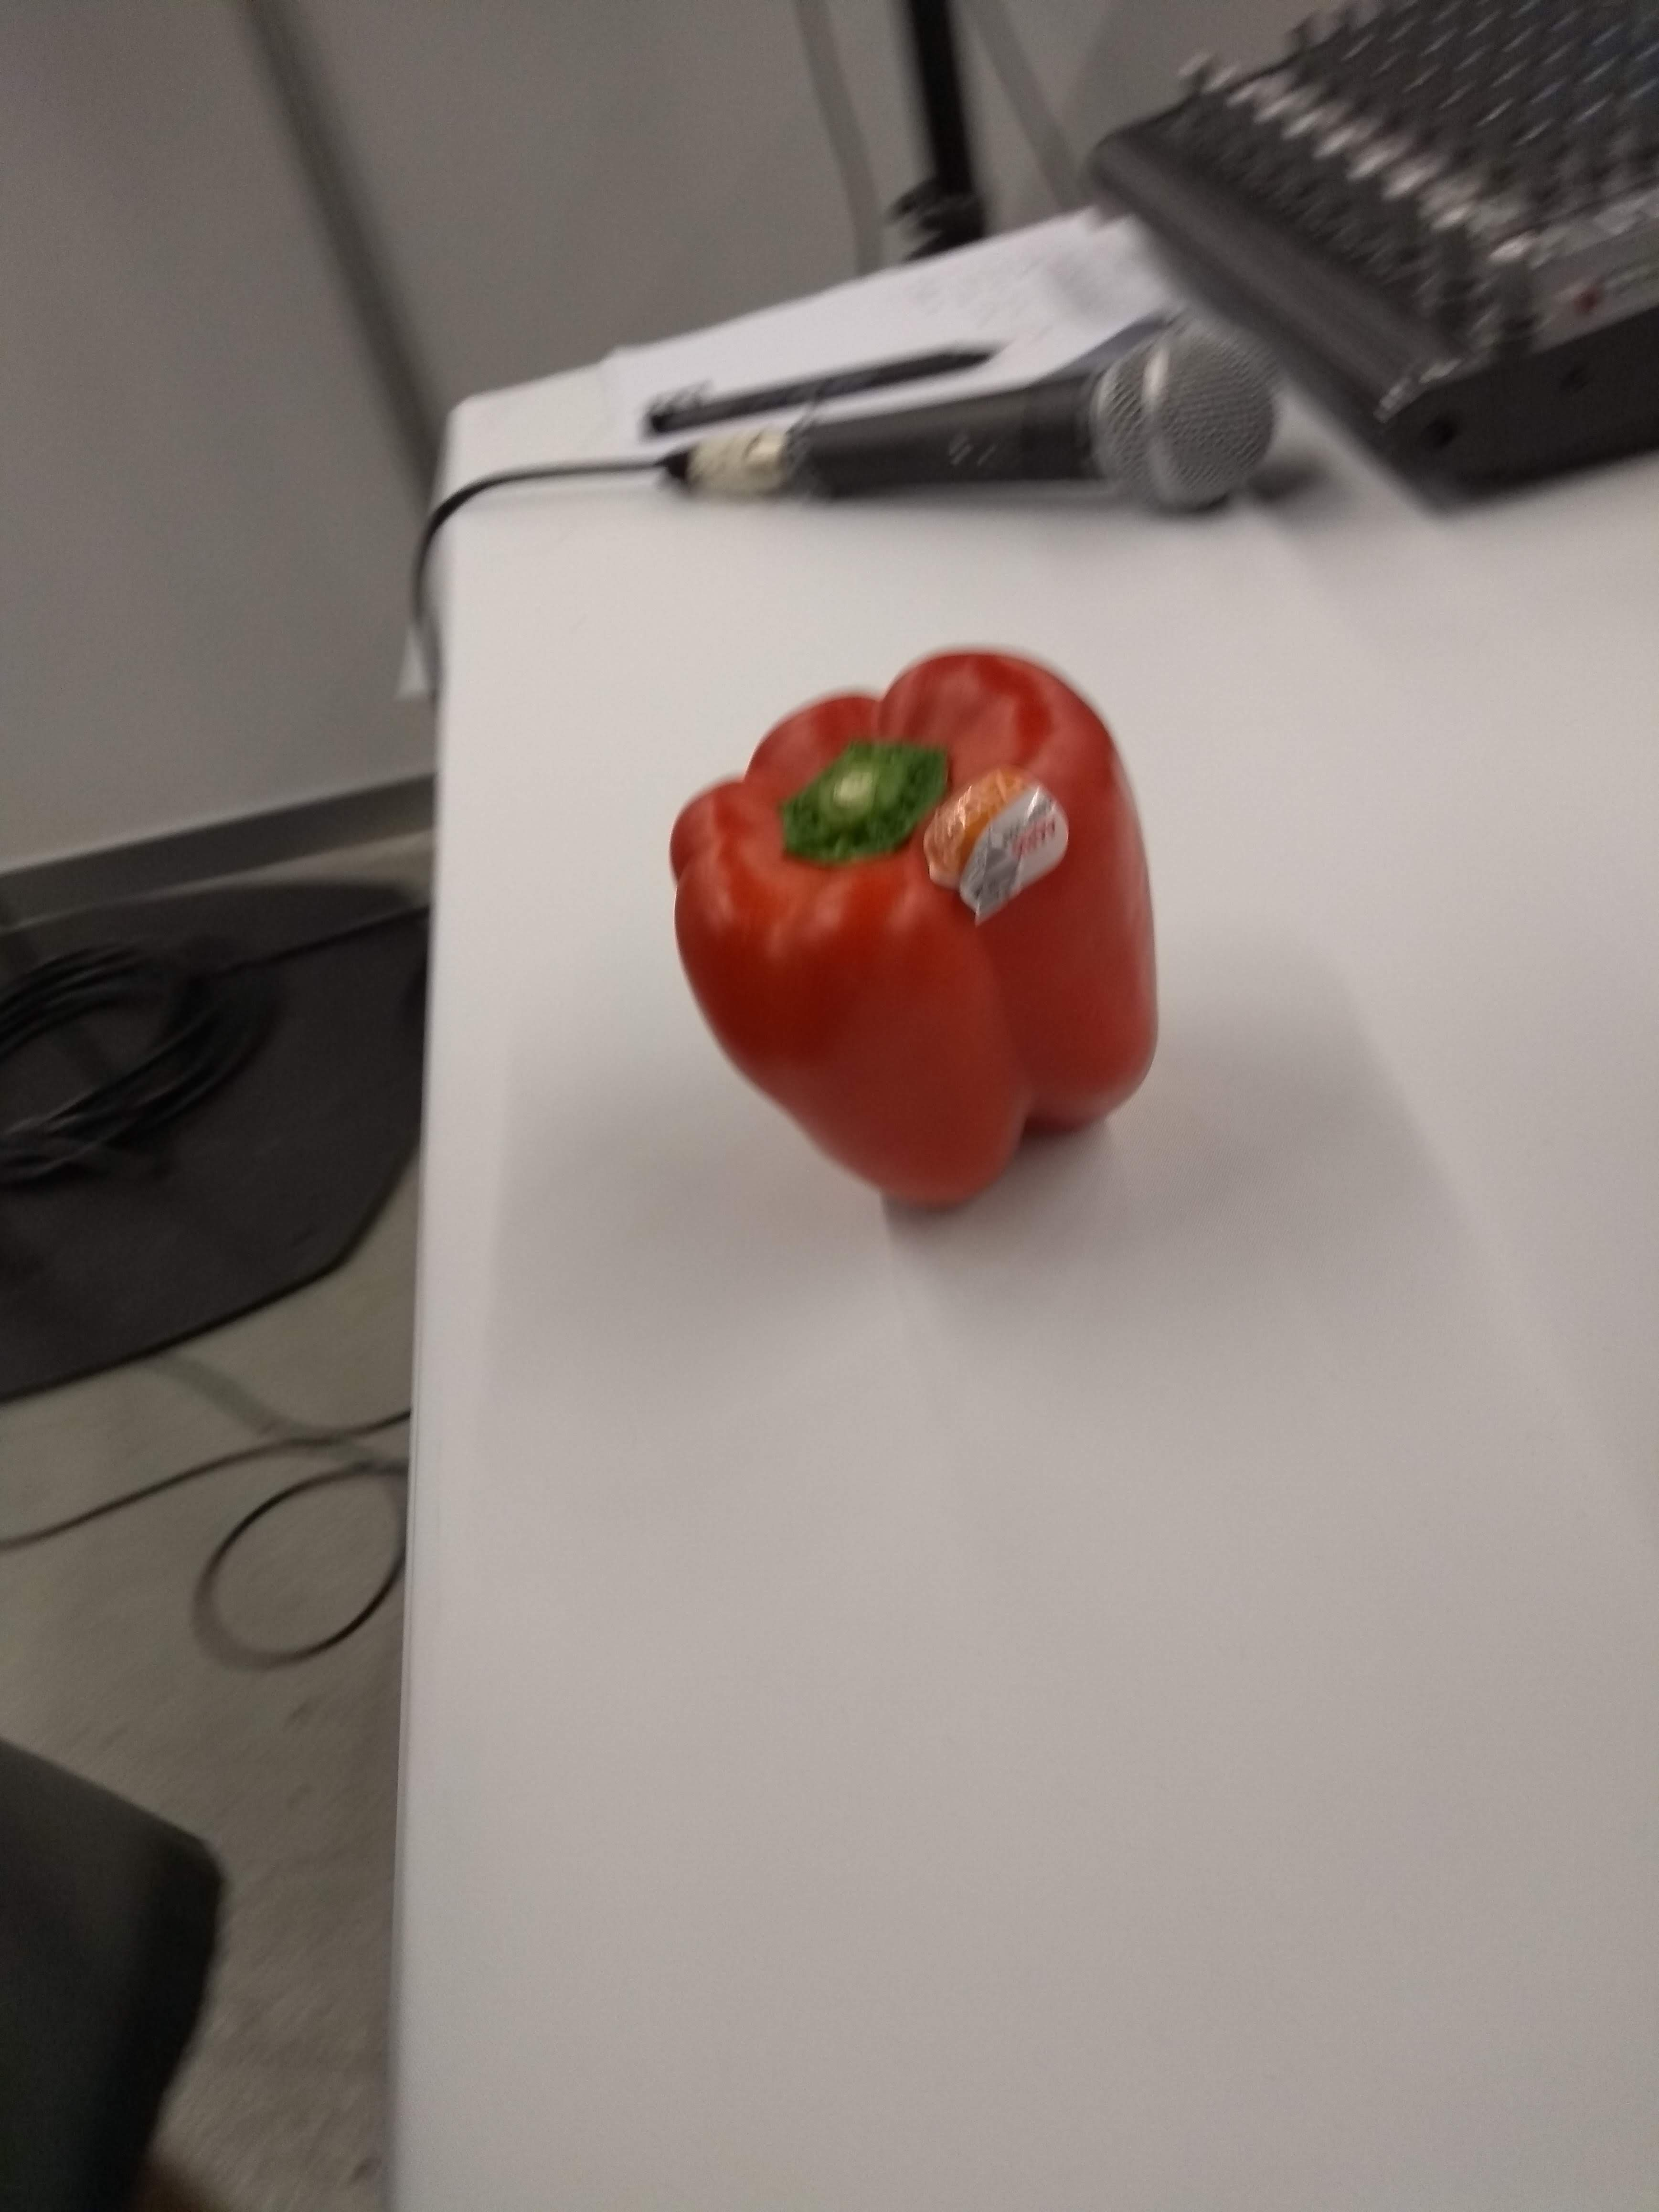paprika: (636, 641, 1171, 1223)
